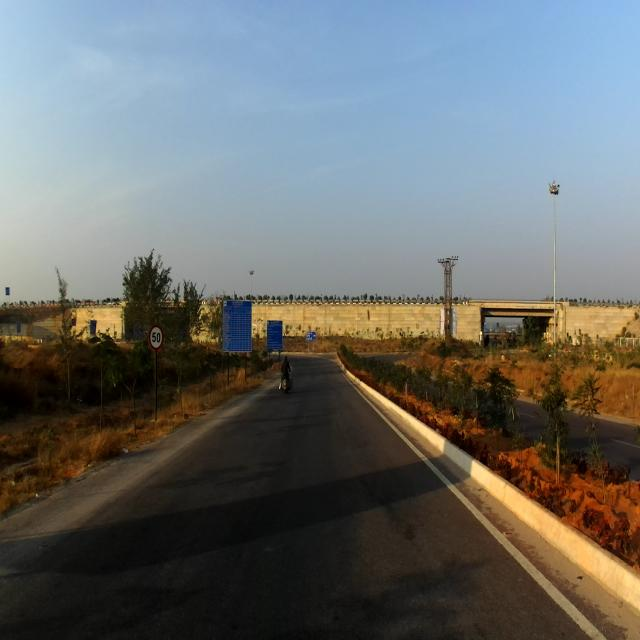motorcycle ahead at: (276, 350, 295, 400)
sign board ahead at: (147, 325, 166, 353)
